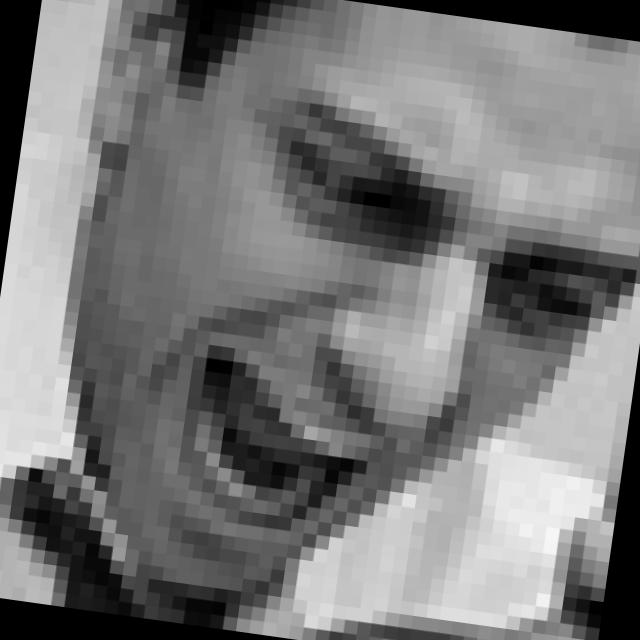angry: (163, 74, 622, 575)
